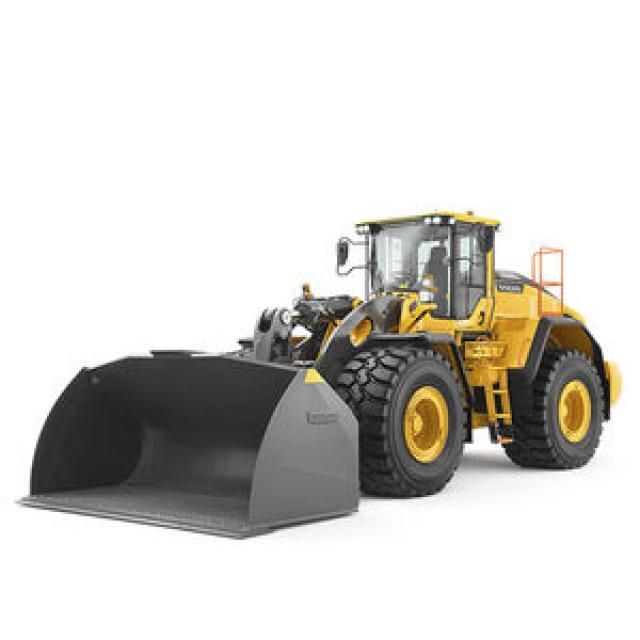buldozerpayloadergrader: (19, 207, 627, 548)
